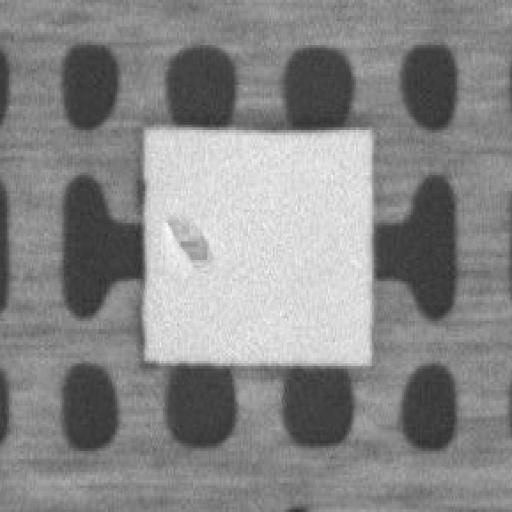DIE_INK: (166, 212, 206, 263)
